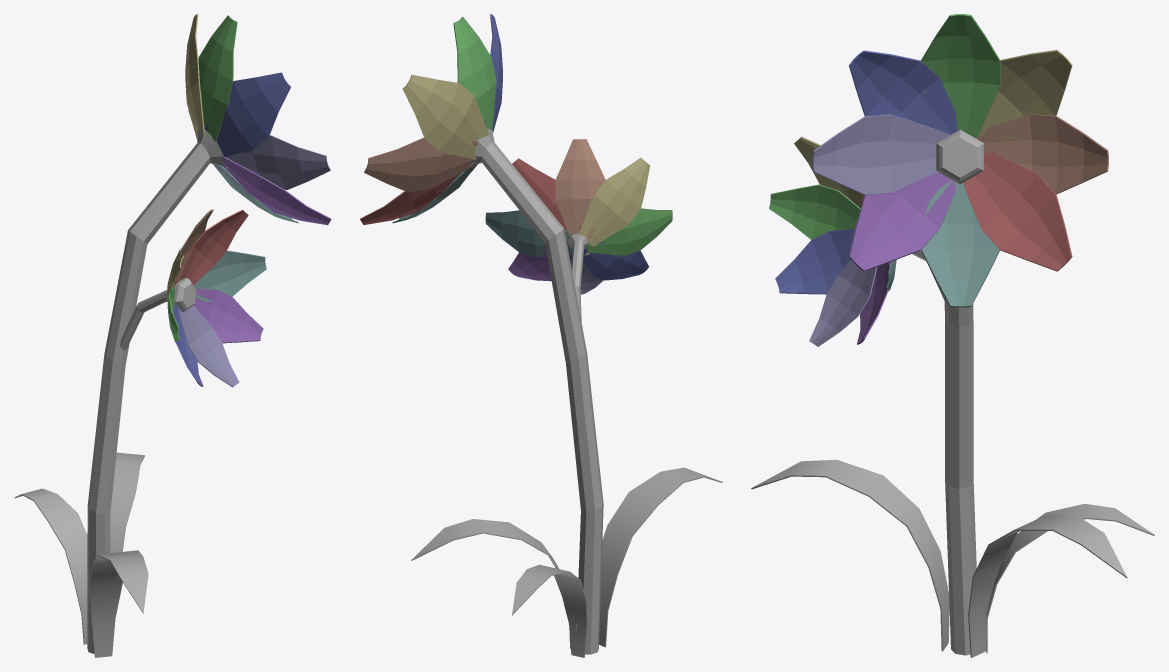
Rendered from Flores var2.fbx.
3 views of the same model, side by side, from view 1: azimuth 30°, elevation 25°; view 2: azimuth 150°, elevation 25°; view 3: azimuth 270°, elevation 25° (orthographic). The views are drawn at different scales.
Visible parts, largest first — view 1: caule_geo, petala_geo7 (×2), mato_geo1, petala_geo8 (×2), petala_geo6 (×2), mato_geo2, petala_geo1, petala_geo5 (×2), petala_geo4, petala_geo2, caule_geo1, petala_geo3 (+1 smaller); view 2: caule_geo, petala_geo2 (×2), petala_geo3 (×2), petala_geo1 (×2), mato_geo1, mato_geo2, petala_geo4 (×2), petala_geo5 (×2), petala_geo8 (×2), petala_geo6, caule_geo1; view 3: petala_geo7 (×2), caule_geo, petala_geo1 (×2), petala_geo8 (×2), petala_geo4, petala_geo6 (×2), mato_geo1, petala_geo3, petala_geo5, petala_geo2 (×2), mato_geo2, botao_geo.
Part boxes in pixels (box(x1,y1,x2,y2)): caule_geo: box(87, 129, 224, 653); petala_geo7 (×2): box(178, 135, 330, 387); mato_geo1: box(14, 452, 144, 644); petala_geo8 (×2): box(173, 72, 290, 386); petala_geo6 (×2): box(194, 156, 331, 343); mato_geo2: box(89, 550, 148, 657); petala_geo1: box(198, 15, 237, 141); petala_geo5 (×2): box(193, 164, 298, 301); petala_geo4: box(180, 209, 248, 285); petala_geo2: box(185, 14, 204, 141); caule_geo1: box(120, 290, 166, 349); petala_geo3: box(173, 209, 213, 285); caule_geo: box(471, 128, 603, 654); petala_geo2 (×2): box(402, 75, 650, 246); petala_geo3 (×2): box(364, 137, 605, 238); petala_geo1 (×2): box(453, 17, 672, 255); mato_geo1: box(411, 519, 587, 657); mato_geo2: box(599, 467, 722, 647); petala_geo4 (×2): box(360, 158, 580, 245); petala_geo5 (×2): box(392, 162, 572, 257); petala_geo8 (×2): box(485, 14, 648, 280); petala_geo6: box(508, 241, 571, 281); caule_geo1: box(567, 233, 588, 321); petala_geo7 (×2): box(809, 114, 949, 346); caule_geo: box(944, 138, 977, 655); petala_geo1 (×2): box(769, 14, 1000, 245); petala_geo8 (×2): box(775, 50, 957, 294); petala_geo4: box(963, 152, 1072, 271); petala_geo6 (×2): box(849, 172, 956, 344); mato_geo1: box(968, 503, 1154, 657); petala_geo3: box(977, 114, 1108, 194); petala_geo5: box(921, 180, 999, 307); petala_geo2 (×2): box(794, 50, 1072, 208); mato_geo2: box(751, 459, 949, 651); botao_geo: box(936, 129, 983, 184).
Size of the model in its own units: 0.6323 by 1.5 by 0.7724.
